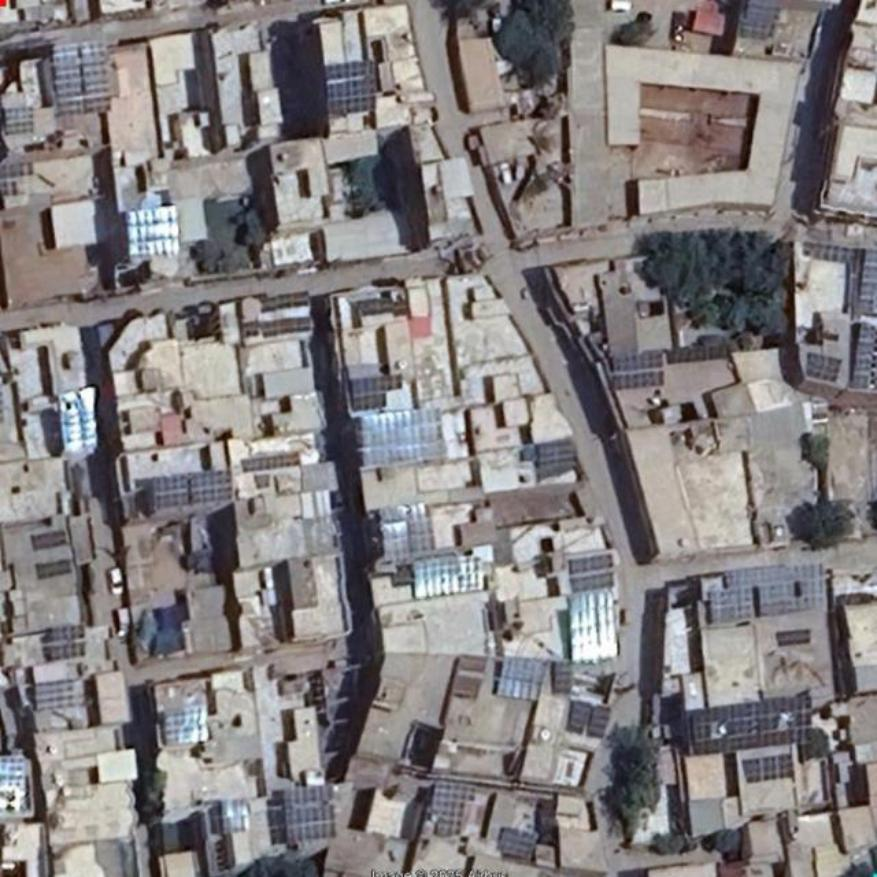Solarpanel: (694, 692, 813, 758), (705, 565, 824, 622), (362, 408, 448, 466), (55, 41, 115, 115), (567, 586, 618, 661), (414, 553, 486, 597), (153, 469, 231, 506), (285, 785, 337, 840), (326, 61, 376, 117), (126, 205, 177, 257), (60, 388, 99, 448), (428, 782, 469, 838), (497, 659, 548, 700), (611, 352, 664, 387), (351, 375, 403, 410), (739, 0, 781, 41), (852, 323, 876, 390), (570, 556, 613, 593), (567, 701, 611, 736), (164, 707, 209, 741), (241, 317, 311, 338), (498, 825, 537, 860), (744, 756, 794, 782), (49, 626, 85, 662), (242, 452, 301, 472), (858, 250, 876, 313), (34, 679, 73, 708), (539, 437, 577, 466), (260, 289, 310, 311), (0, 757, 25, 788), (5, 109, 33, 134), (33, 531, 66, 549), (39, 561, 71, 576)
